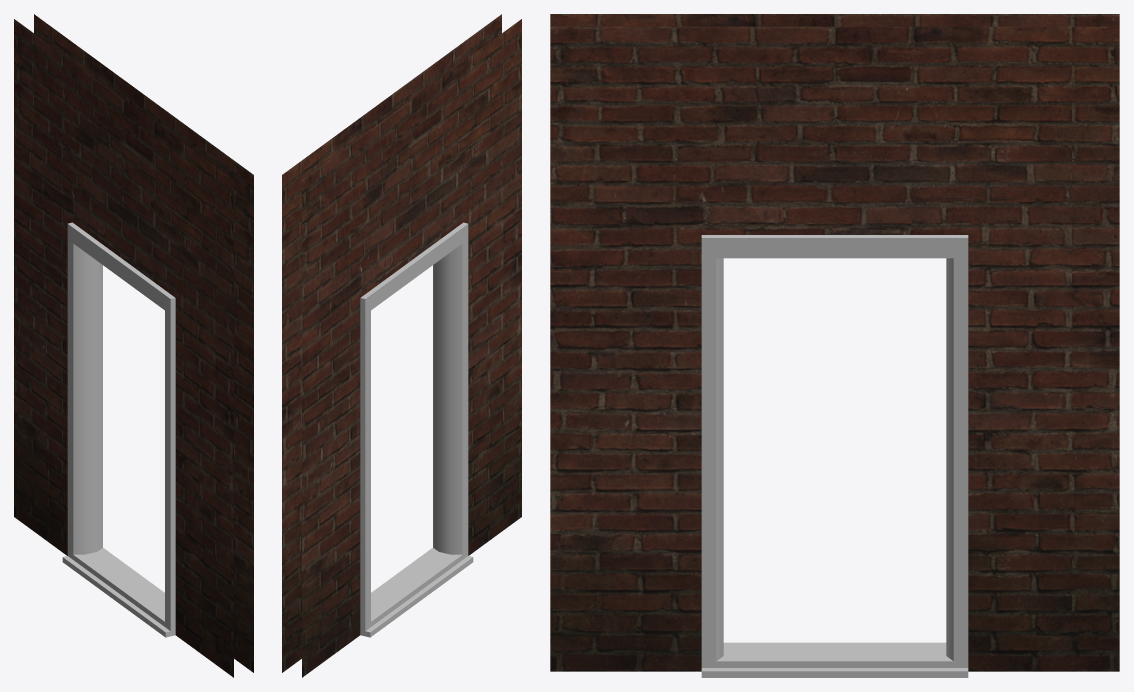
Rendered from wall_doorsmall_brick_tile_3m.fbx.
3 views of the same model, side by side, from view 1: azimuth 30°, elevation 25°; view 2: azimuth 150°, elevation 25°; view 3: azimuth 270°, elevation 25° (orthographic). The views are drawn at different scales.
Parts seen in each view (by area): view 1: wall_doorsmall_brick_tile_3m; view 2: wall_doorsmall_brick_tile_3m; view 3: wall_doorsmall_brick_tile_3m.
Part boxes in pixels (x1,y1,x2,y2): wall_doorsmall_brick_tile_3m: [14, 14, 253, 677]; wall_doorsmall_brick_tile_3m: [282, 14, 521, 677]; wall_doorsmall_brick_tile_3m: [550, 14, 1119, 677].
Bounding box in the file's own units: 0.3125 × 3.75 × 3.
